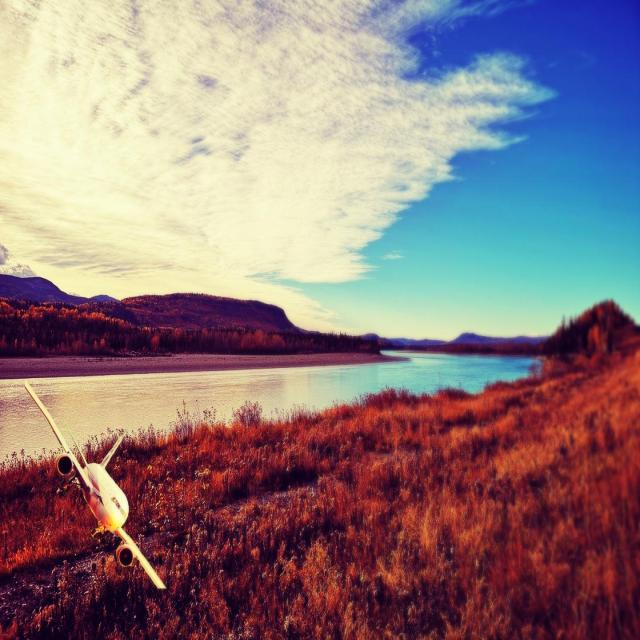airplane: (22, 380, 166, 590)
